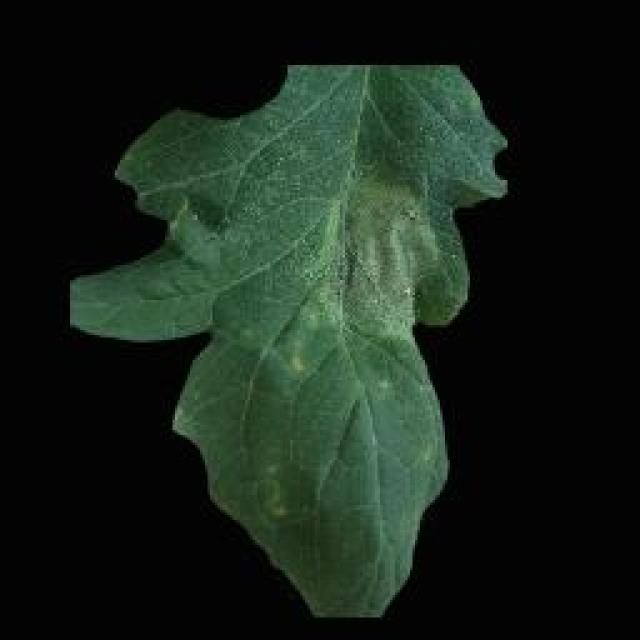Tomato Late Blight: (232, 137, 510, 440)
